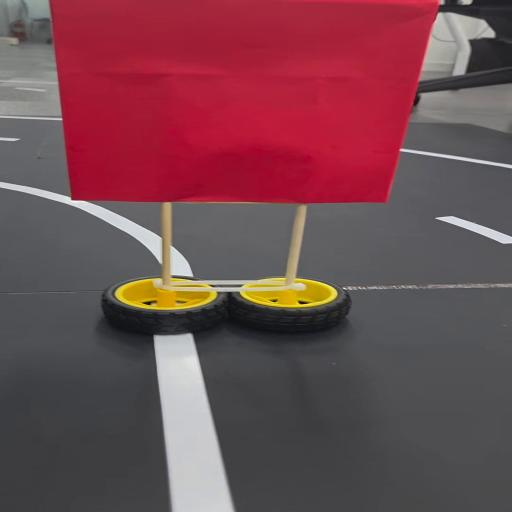Sign_A: (48, 0, 434, 333)
